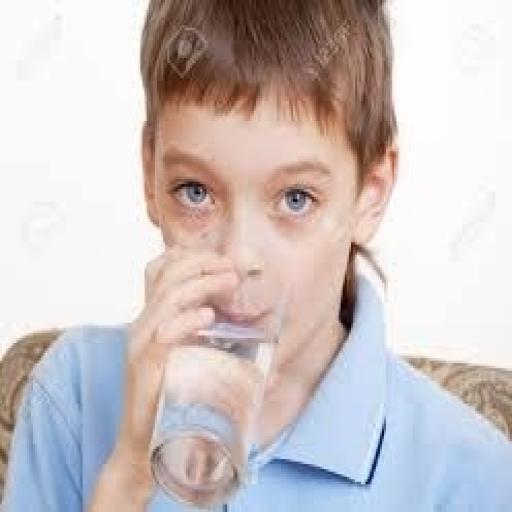drinking: (144, 48, 403, 511)
